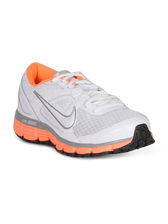shoes: (6, 57, 158, 159)
